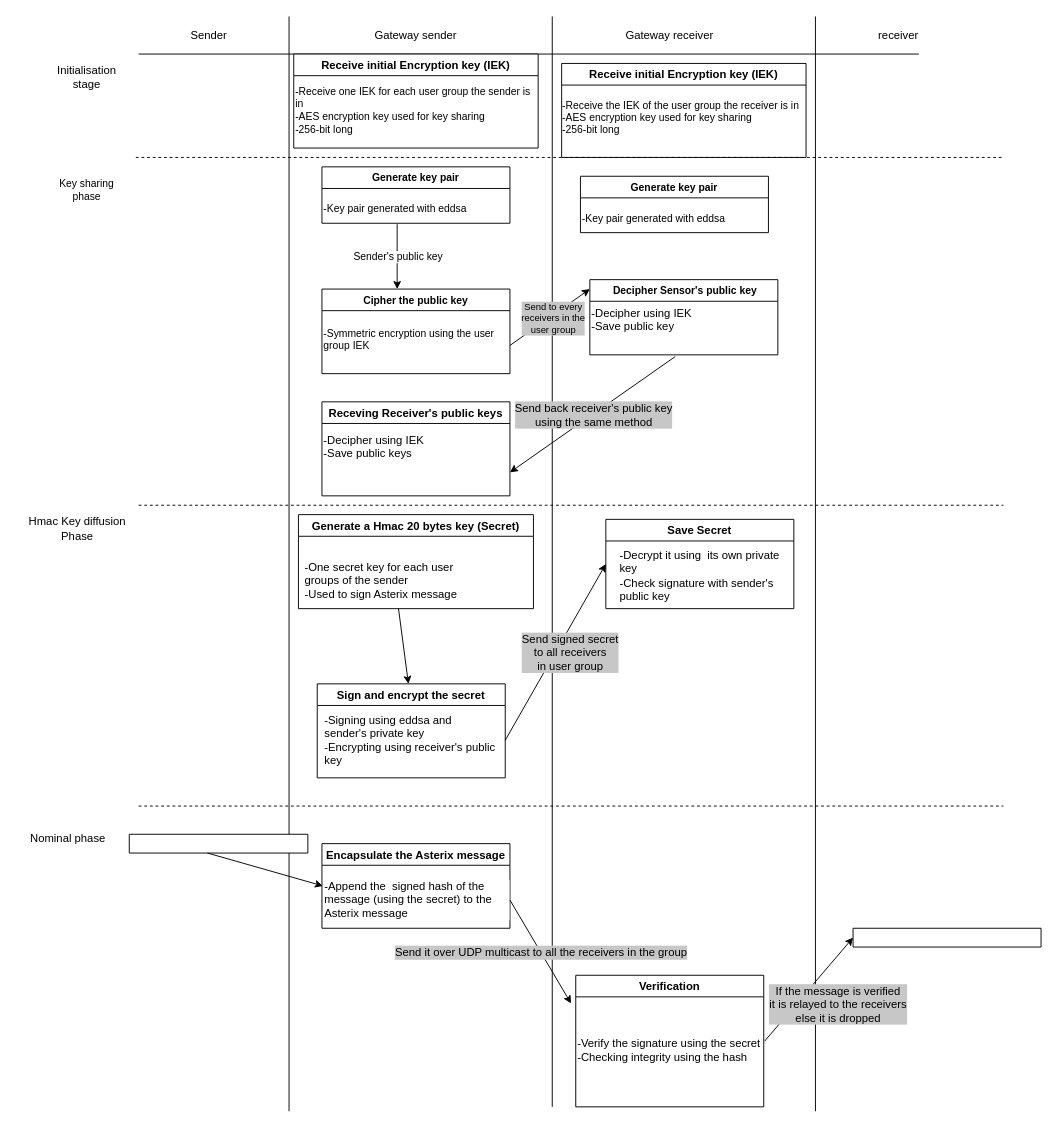
The diagram is 1058 pixels wide and 1129 high, and some of its shapes have lost their labels. Here are the shapes that lost their labels. From the top down, the centre of each, then its label:
At pixel 218 843: "Generate Asterix message".
At pixel 946 937: "Normal use of an asterix message".
